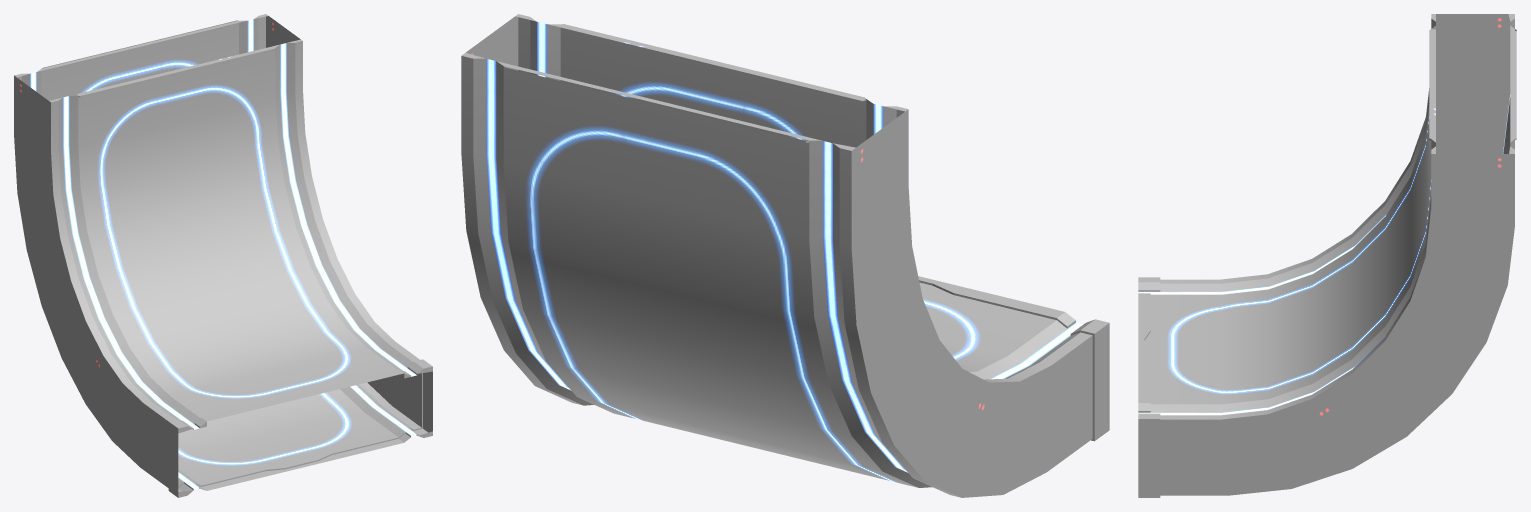
The model's file is PitchUp-2S_NoCaps.fbx.
3 views of the same model, side by side, from view 1: azimuth 30°, elevation 25°; view 2: azimuth 150°, elevation 25°; view 3: azimuth 270°, elevation 25° (orthographic). The views are drawn at different scales.
Parts seen in each view (by area): view 1: PitchUp-2S_NoCaps; view 2: PitchUp-2S_NoCaps; view 3: PitchUp-2S_NoCaps.
Boxes of the visible parts, x1,y1,x2,y2 form: PitchUp-2S_NoCaps: [14, 14, 432, 497]; PitchUp-2S_NoCaps: [461, 14, 1109, 497]; PitchUp-2S_NoCaps: [1138, 14, 1516, 497].
Bounding box in the file's own units: 2.5 × 2.83 × 2.83.
